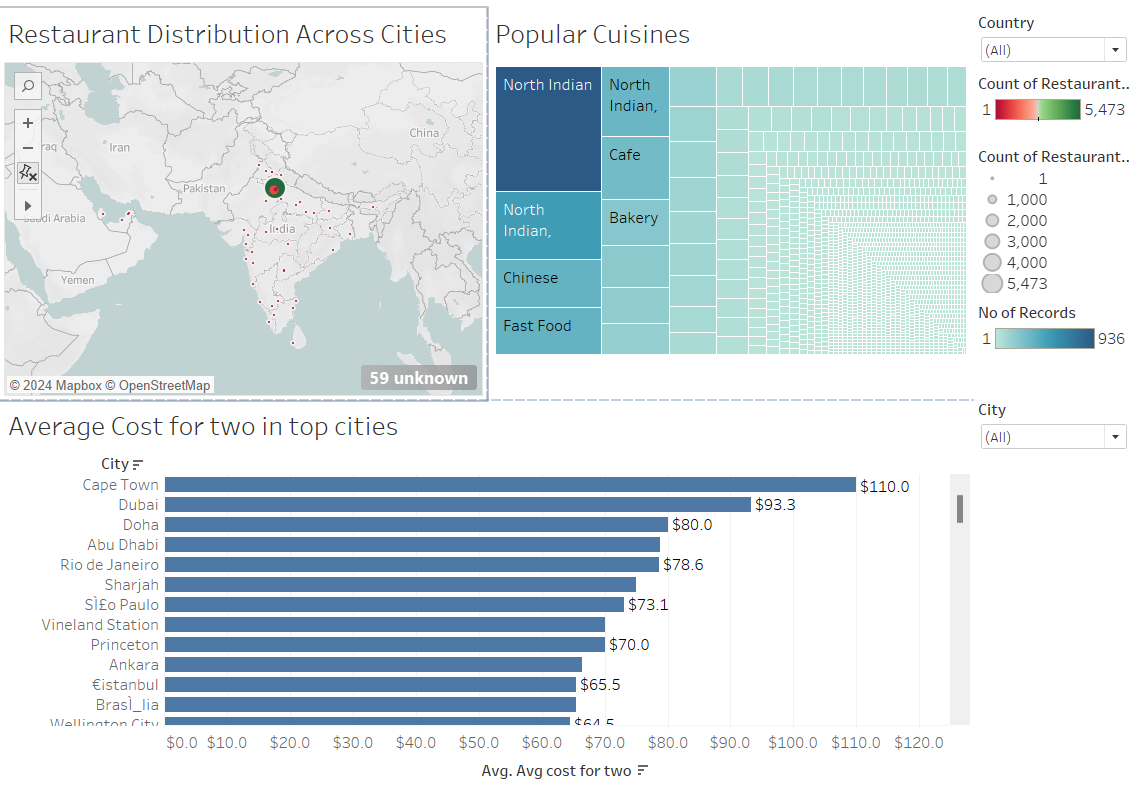

The dashboard page shown, as its layout file describes it:
{"tool":"tableau","page":{"name":"Dashboard 1","canvas":[1150,800],"ordinal":0},"visuals":[{"type":"worksheet","title":"Restaurant Distr Across Cities","mark":"Automatic","box":[8,8,487,392]},{"type":"worksheet","title":"Popular Cuisines","mark":"Automatic","box":[495,8,487,392]},{"type":"filter","title":"Restaurant Distr Across Cities","param":"[federated.0frcwyd0izt63613m6qt016qtrcf].[none:Country:nk]","box":[982,8,160,61]},{"type":"legend","title":"Restaurant Distr Across Cities","param":"[federated.0frcwyd0izt63613m6qt016qtrcf].[cnt:Restaurant ID:qk]","box":[982,69,160,73]},{"type":"legend","title":"Restaurant Distr Across Cities","param":"[federated.0frcwyd0izt63613m6qt016qtrcf].[cnt:Restaurant ID:qk]","box":[982,142,160,156]},{"type":"legend","title":"Popular Cuisines","param":"[federated.0frcwyd0izt63613m6qt016qtrcf].[usr:Calculation_2304224549766299655:qk","box":[982,298,160,73]},{"type":"legend","title":"Popular Cuisines","param":"[federated.0frcwyd0izt63613m6qt016qtrcf].[usr:Calculation_2304224549766299655:qk","box":[982,371,160,24]},{"type":"filter","title":"Average Cost for two in top cities","param":"[federated.0frcwyd0izt63613m6qt016qtrcf].[none:City:nk]","box":[982,395,160,61]},{"type":"worksheet","title":"Average Cost for two in top cities","mark":"Automatic","rows":["City"],"cols":["Calculation_1576048785062043653"],"box":[8,400,974,392]}]}

Visuals, with their boxes in screenshot pixels (x1, y1, x2, y2), scaled from the page's 1150x800 canvas onto the 1136x787 screenshot:
"Restaurant Distr Across Cities" worksheet: [x1=8, y1=8, x2=489, y2=394]
"Popular Cuisines" worksheet: [x1=489, y1=8, x2=970, y2=394]
"Restaurant Distr Across Cities" filter: [x1=970, y1=8, x2=1128, y2=68]
"Restaurant Distr Across Cities" legend: [x1=970, y1=68, x2=1128, y2=140]
"Restaurant Distr Across Cities" legend: [x1=970, y1=140, x2=1128, y2=293]
"Popular Cuisines" legend: [x1=970, y1=293, x2=1128, y2=365]
"Popular Cuisines" legend: [x1=970, y1=365, x2=1128, y2=389]
"Average Cost for two in top cities" filter: [x1=970, y1=389, x2=1128, y2=449]
"Average Cost for two in top cities" worksheet: [x1=8, y1=394, x2=970, y2=779]
